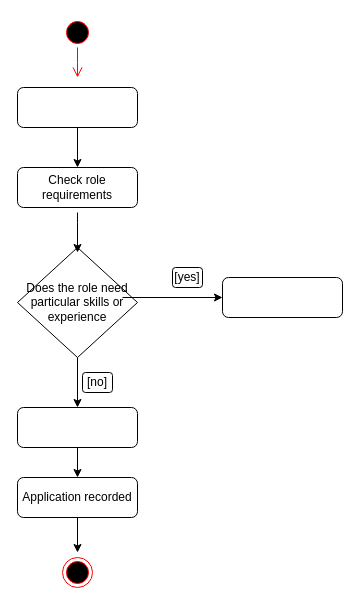
This 360x605 diagram has some shape labels left out. The centre of each missing label's shape, as x and y in pixels:
"How are skills or experience checked" goes at (282,297).
"Select Event Role" goes at (77,107).
"Submit application" goes at (77,427).
